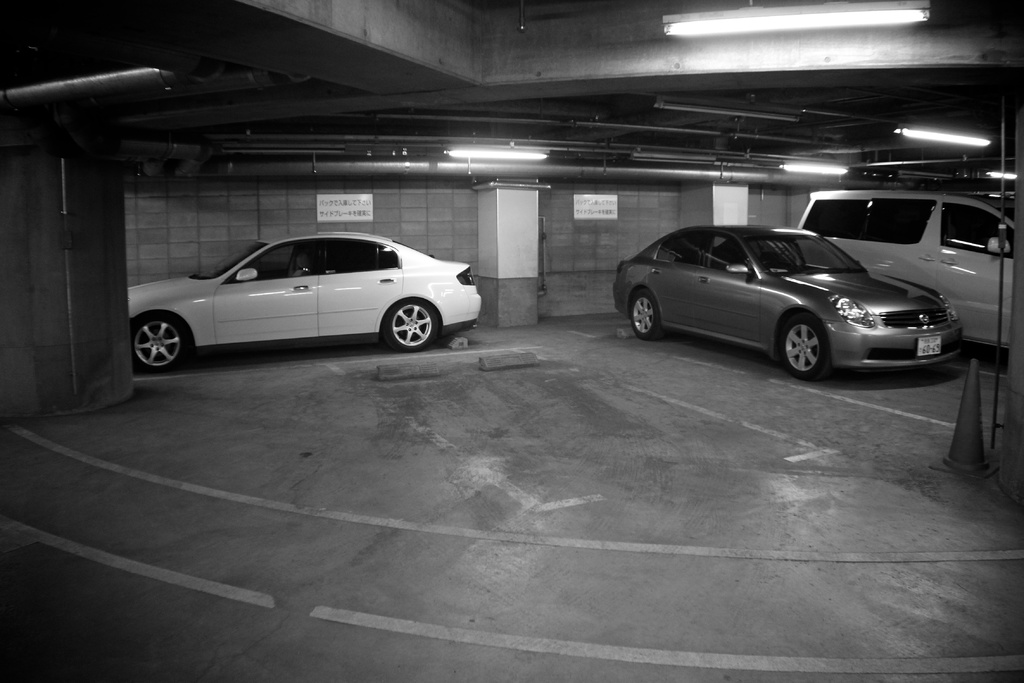cars: (133, 230, 481, 372), (801, 183, 1012, 347)
